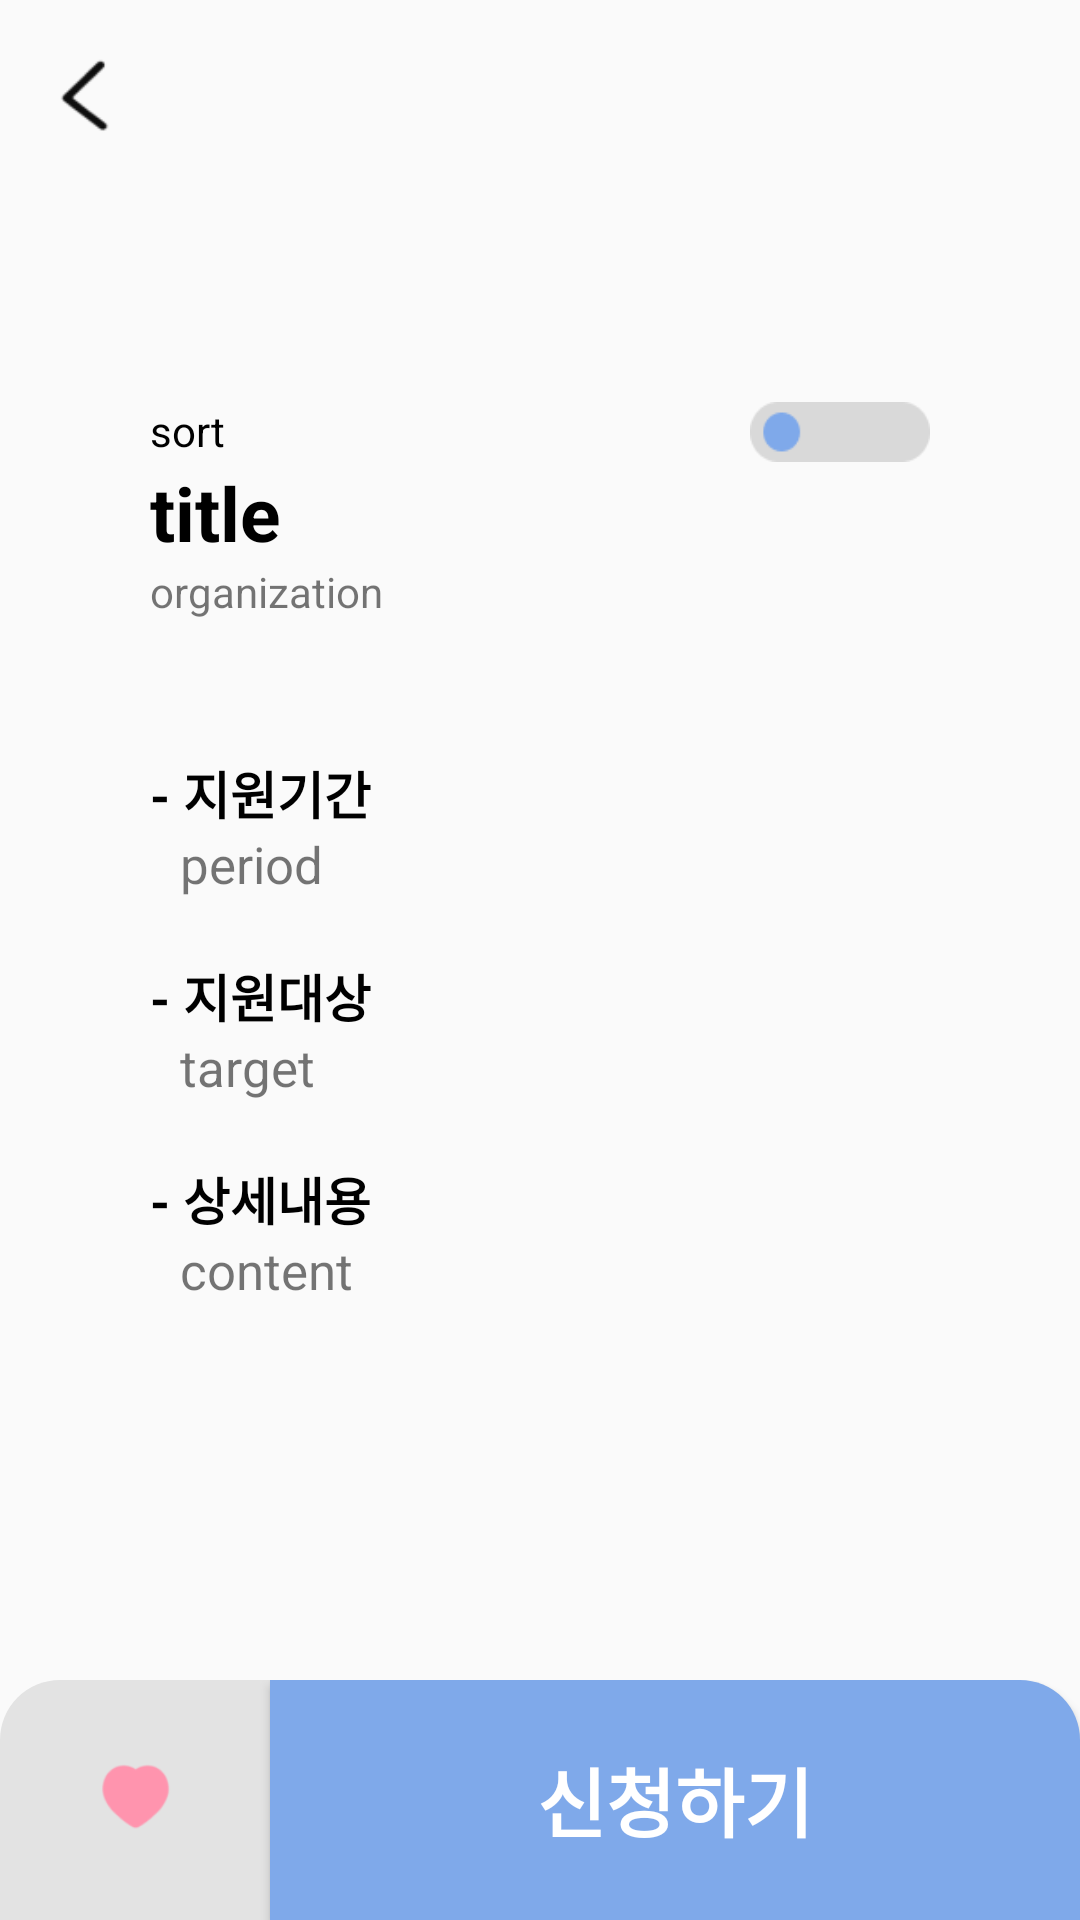

Screen size 1080 × 1920. Icon name, then its center in pixels as (x,y):
back: (84,95)
like: (135,1796)
